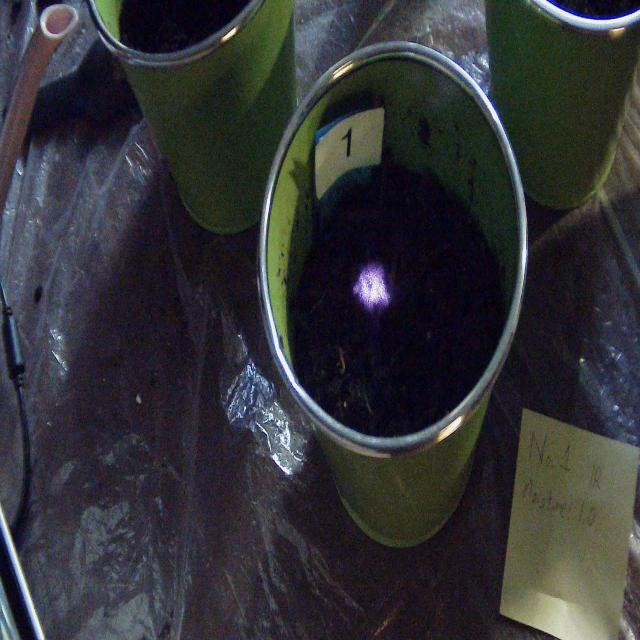soil-moisture-1.0: (354, 263, 390, 313)
